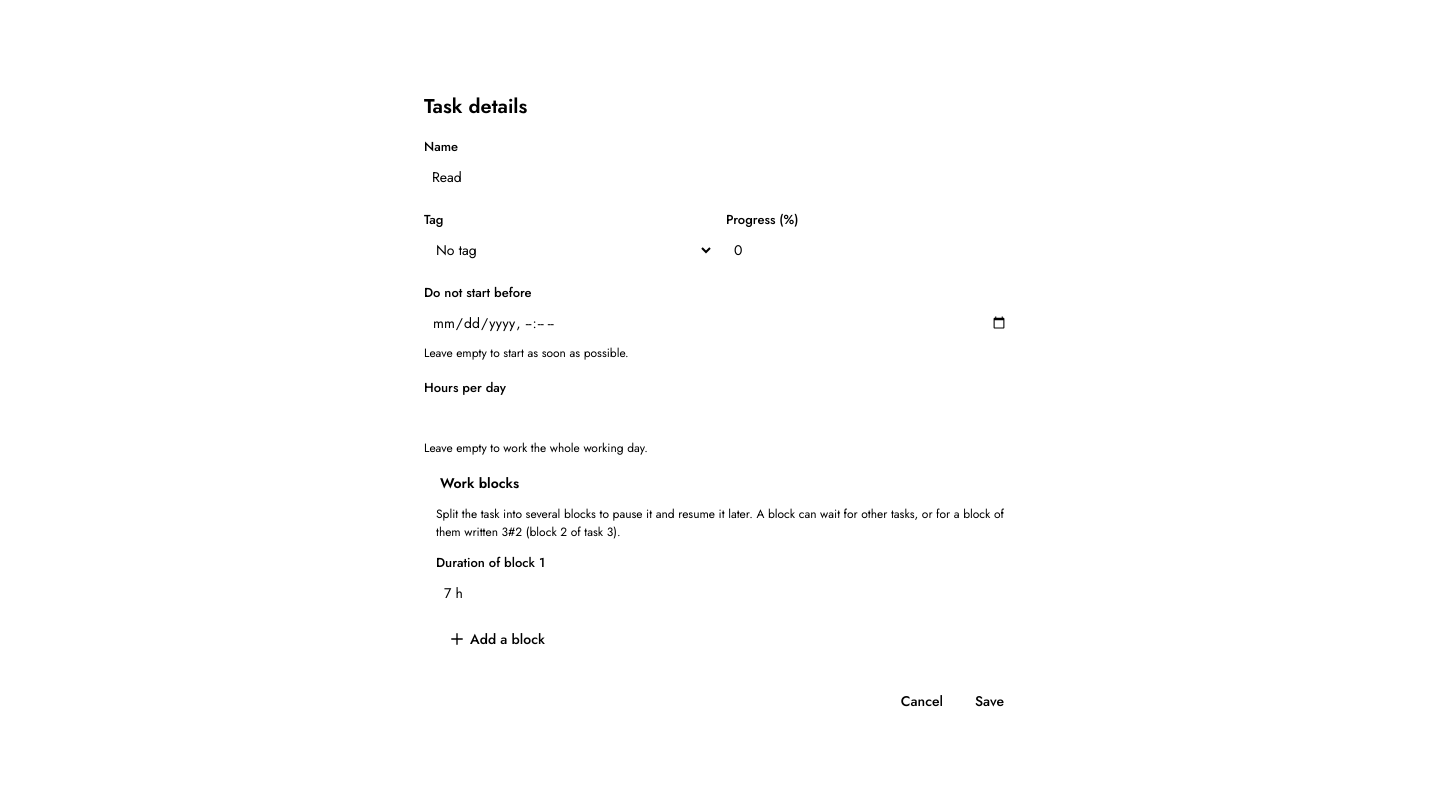
Scenario: TaskDetails › keeps the panel open with the reason of a refusal
Step 1. Replace the text in the field labelled "Progress (%)" with "half" → (871, 250), box [726,233,1016,267]
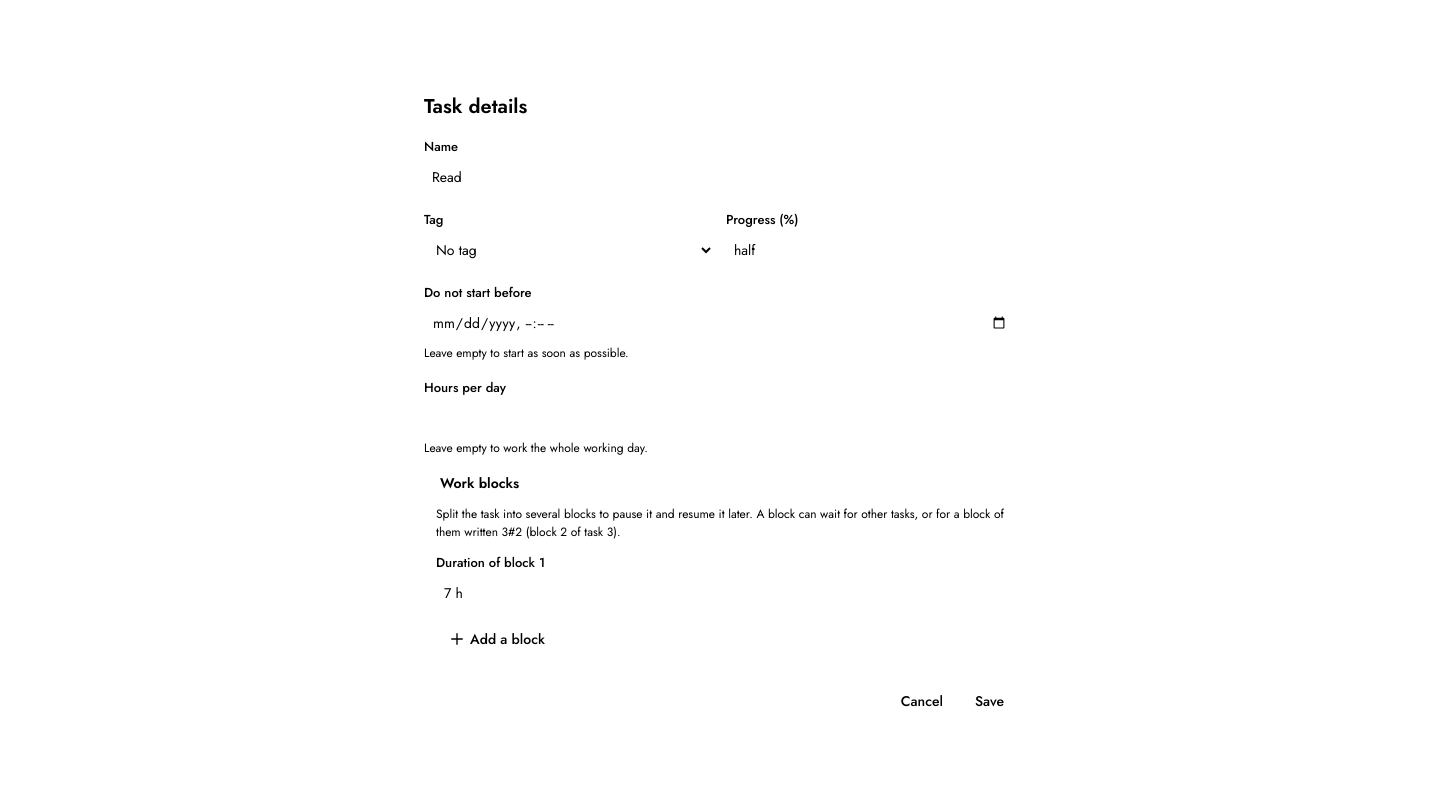
Step 2. Submit the form, box [400,68,1040,742]
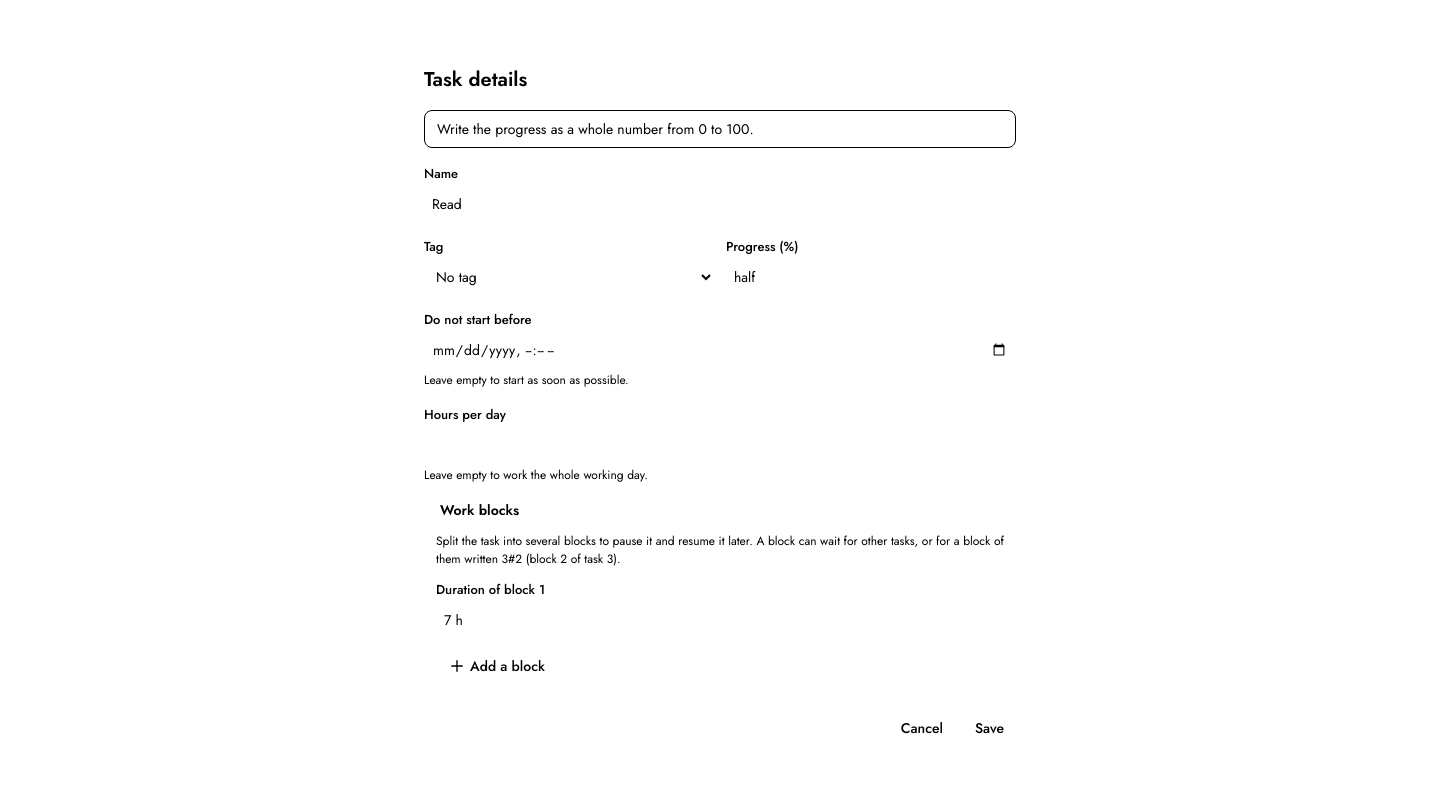
Now the message "Write the progress as a whole number from 0 to 100." is shown, box [424,110,1016,148]
